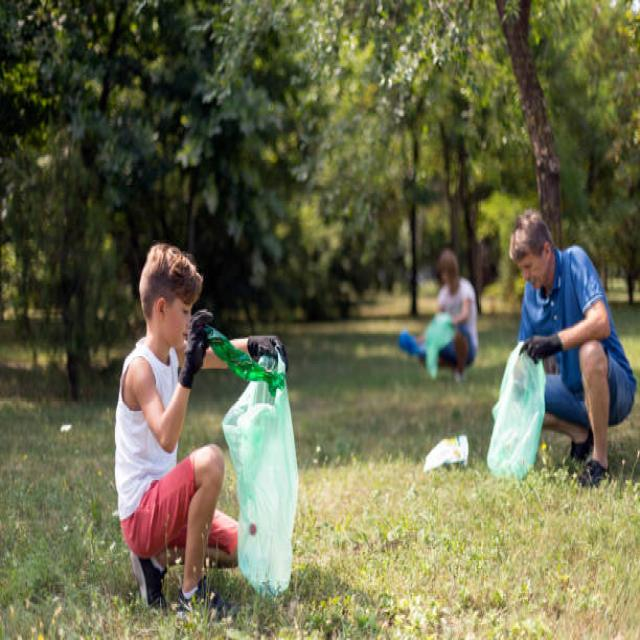trash: (228, 378, 319, 588), (489, 348, 547, 488), (413, 320, 455, 381), (418, 438, 471, 472)
